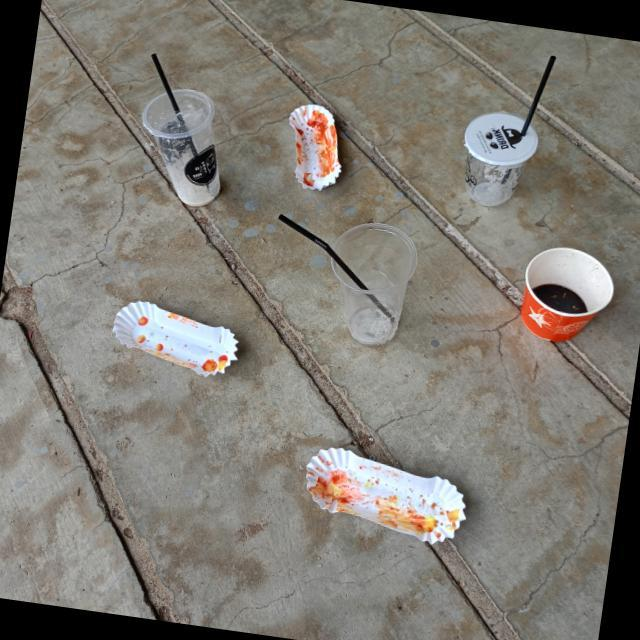recyclable waste: (282, 433, 490, 560), (90, 284, 266, 400), (307, 205, 435, 363), (119, 70, 244, 220), (506, 229, 628, 364), (441, 96, 548, 222), (270, 89, 364, 204)
